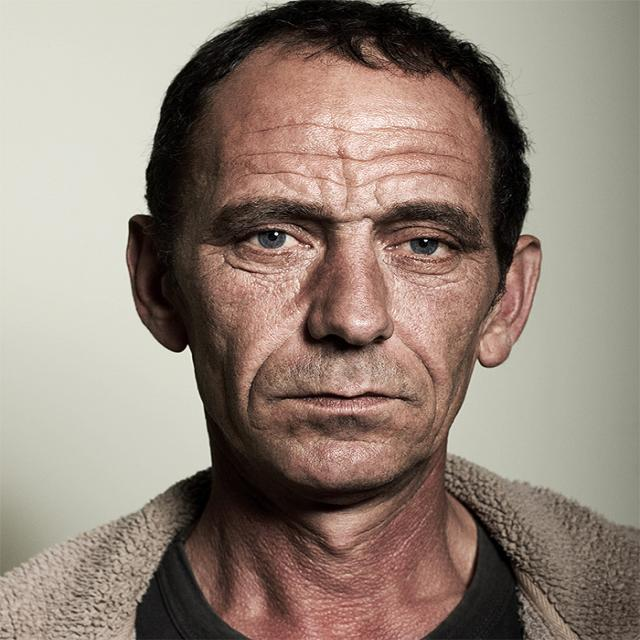earlobe: (477, 234, 543, 369), (126, 214, 188, 352)
